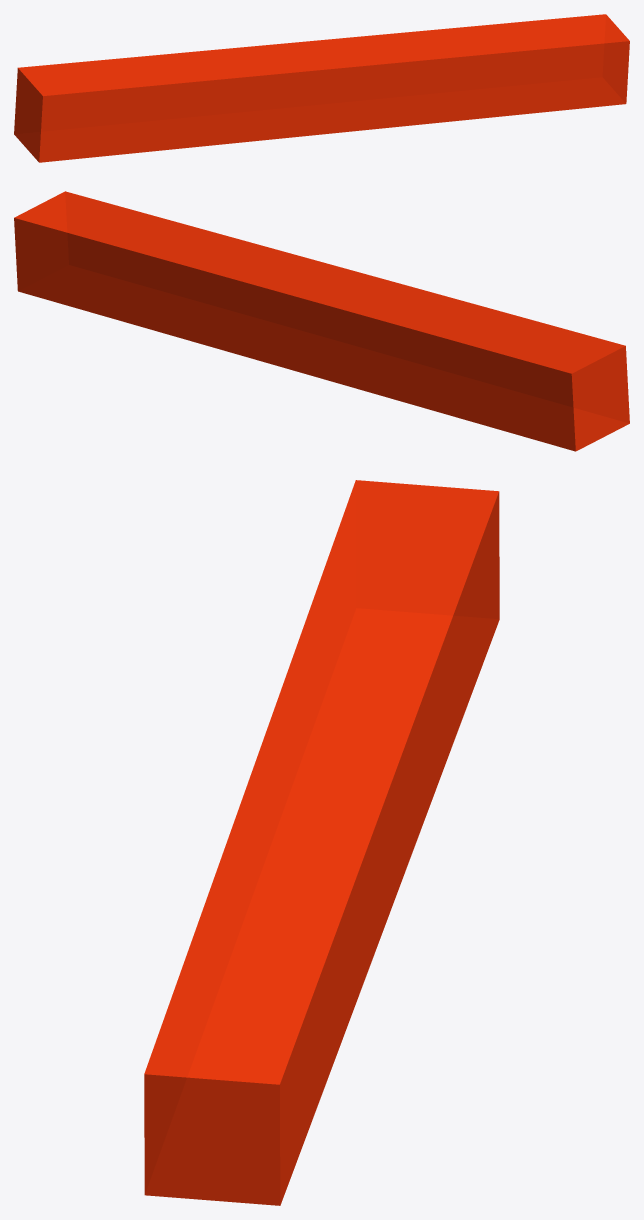
The model's file is Event_420094457_EErechit_11.fbx.
3 views of the same model, one above another, from view 1: azimuth 30°, elevation 25°; view 2: azimuth 150°, elevation 25°; view 3: azimuth 270°, elevation 25° (orthographic). The views are drawn at different scales.
Parts seen in each view (by area): view 1: Model; view 2: Model; view 3: Model.
Part boxes in pixels (x1,y1,x2,y2): Model: (14,14,629,162); Model: (14,191,629,451); Model: (144,480,499,1205).
Size of the model in its own units: 0.6671 by 0.1153 by 0.1875.
